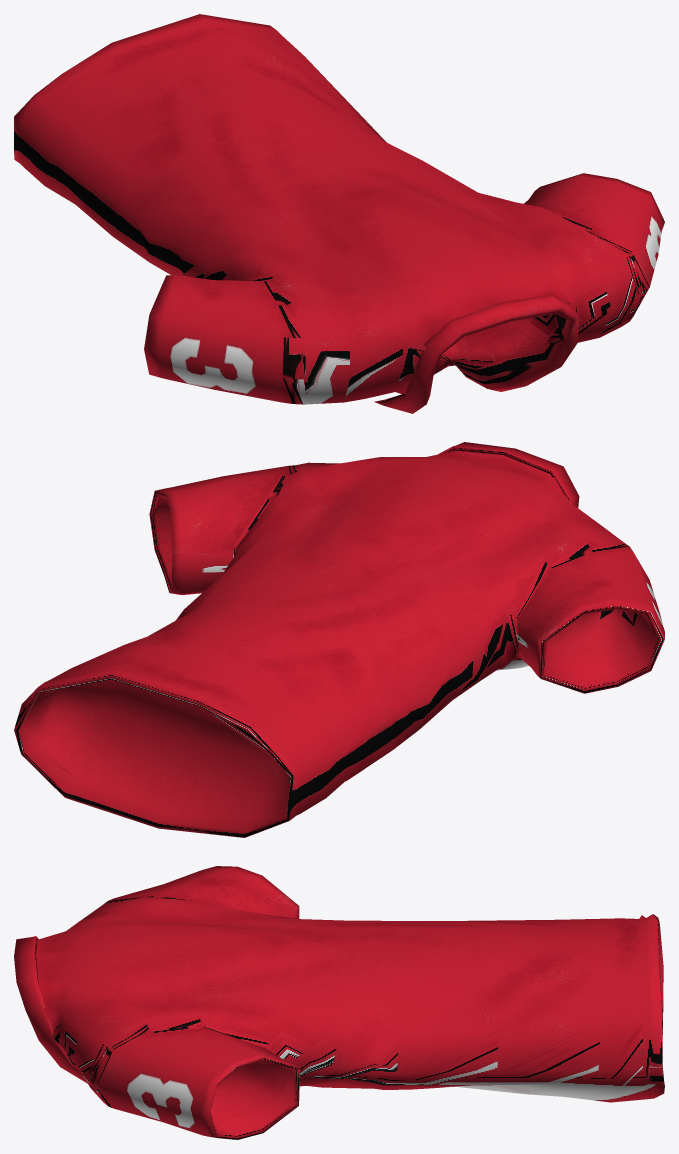
File: 13647_Polo_Team_Shirt_v2_L3.obj
The picture shows the model from 3 angles, top to bottom: view 1: azimuth 30°, elevation 25°; view 2: azimuth 150°, elevation 25°; view 3: azimuth 270°, elevation 25°; orthographic projection. The views are drawn at different scales.
Visible parts, largest first — view 1: 13647_Polo_Team_Shirt_v2_L3; view 2: 13647_Polo_Team_Shirt_v2_L3; view 3: 13647_Polo_Team_Shirt_v2_L3.
Boxes of the visible parts, left/top/right/bottom form: 13647_Polo_Team_Shirt_v2_L3: left=14, top=14, right=664, bottom=413; 13647_Polo_Team_Shirt_v2_L3: left=14, top=442, right=664, bottom=837; 13647_Polo_Team_Shirt_v2_L3: left=14, top=866, right=664, bottom=1139.
Size of the model in its own units: 29.86 by 8.7 by 36.2.
Materials: 2 (1 with a texture image).
